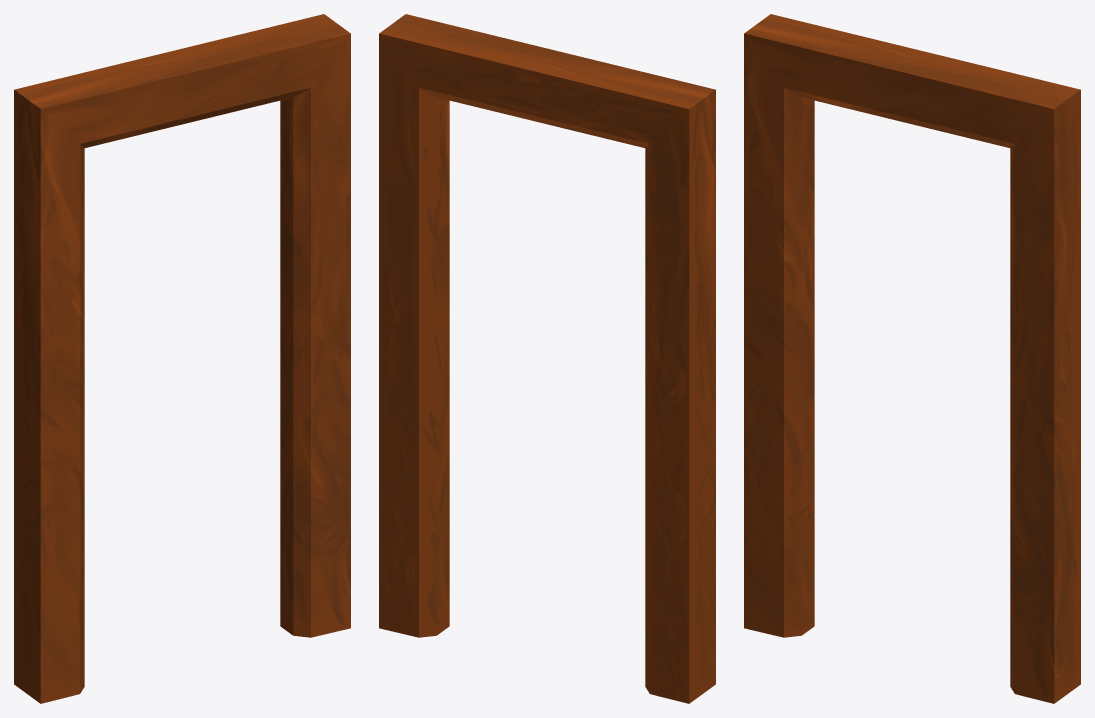
File: Puerta.fbx
The picture shows the model from 3 angles, left to right: view 1: azimuth 30°, elevation 25°; view 2: azimuth 150°, elevation 25°; view 3: azimuth 330°, elevation 25°; orthographic projection.
Visible parts, largest first — view 1: pCube1; view 2: pCube1; view 3: pCube1.
Part boxes in pixels (left/top/right/bottom): pCube1: left=14, top=14, right=350, bottom=703; pCube1: left=379, top=14, right=715, bottom=703; pCube1: left=744, top=14, right=1080, bottom=703.
Bounding box in the file's own units: 1.03 × 1.88 × 0.1527.
